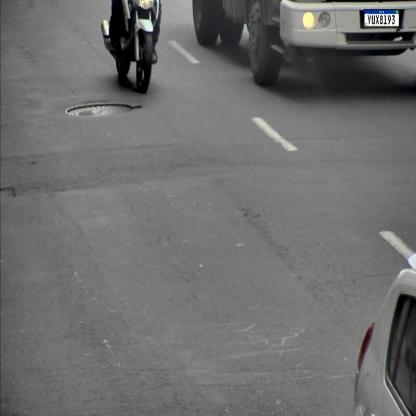PlacaM: (364, 9, 399, 27)
